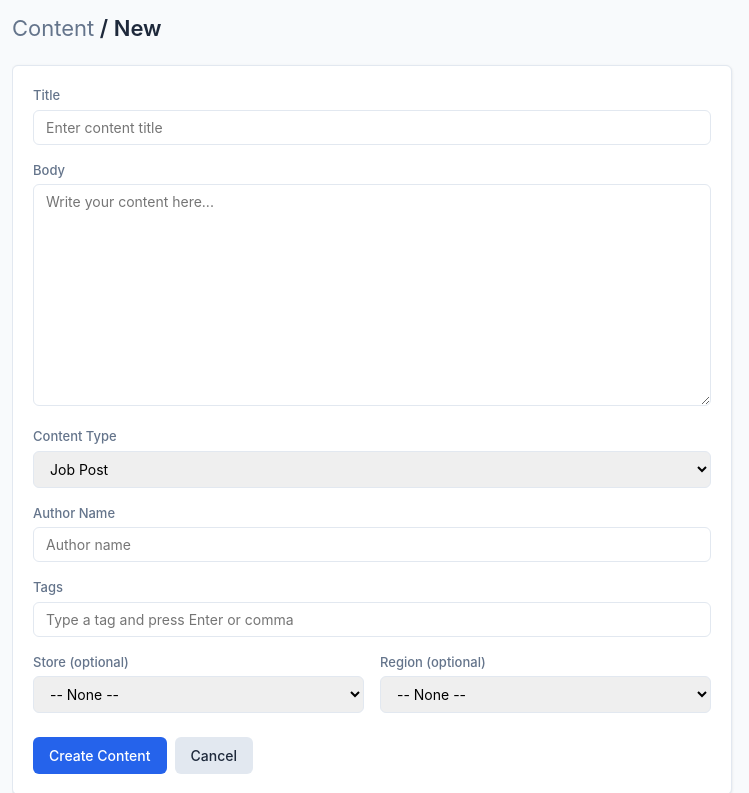
Test: ContentCreatePage — behavior tests › shows validation error when author name is empty on submit
Step 1. Type "My Title" into the field with placeholder "Enter content title" → coordinates (372, 127), box [33, 110, 711, 144]
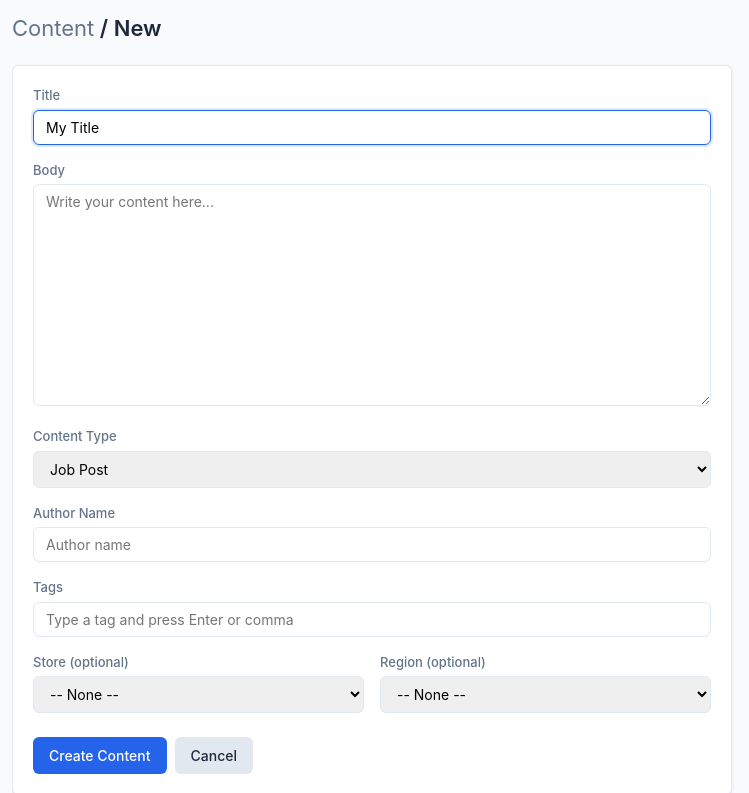
Step 2. Type "Some body text" into the text box with placeholder "Write your content here..." → coordinates (372, 295), box [33, 184, 711, 406]
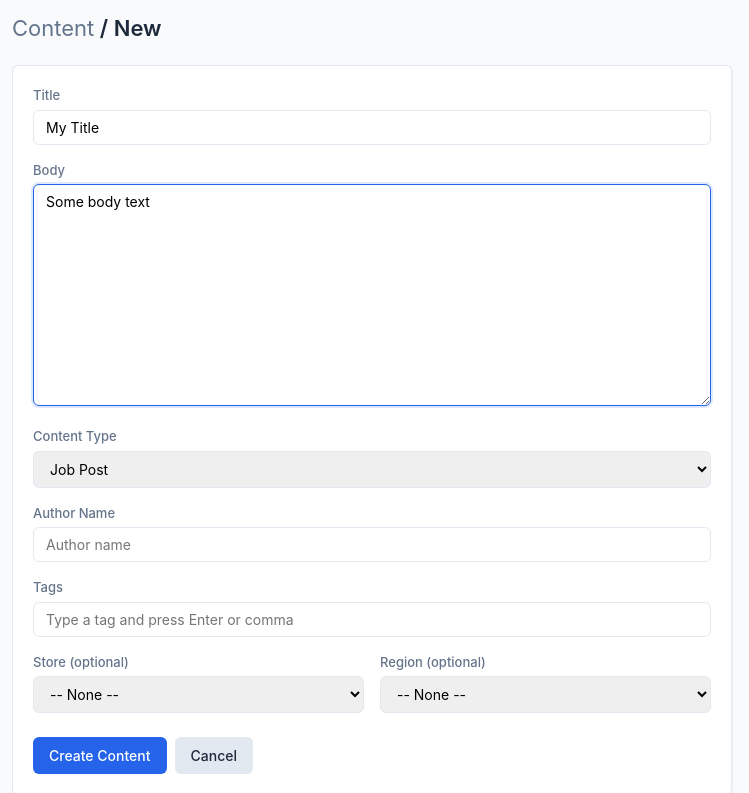
Step 3. Click the button "Create Content" → coordinates (100, 756), box [33, 737, 166, 774]
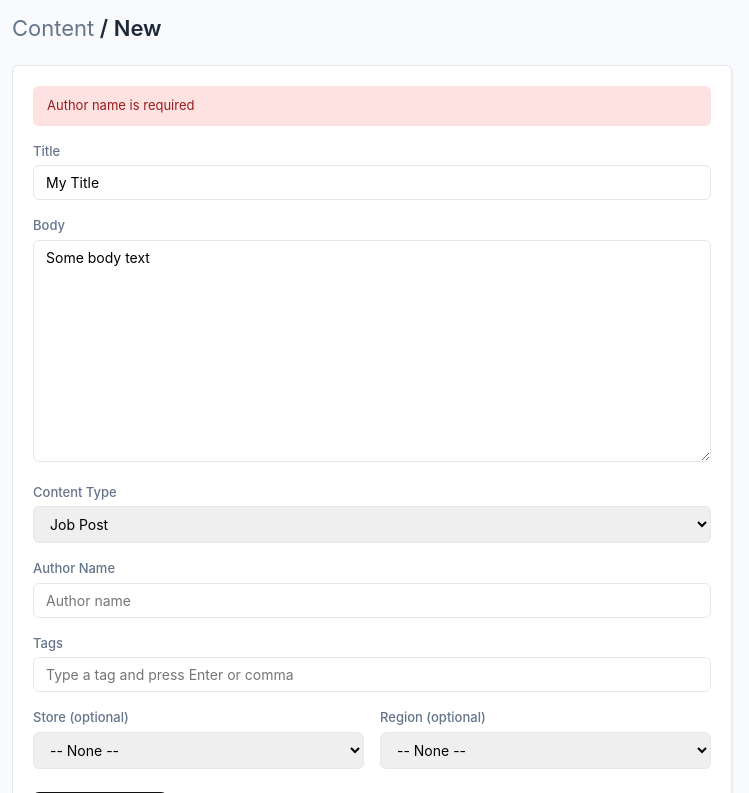
expect the text "Author name is required" is shown: met, box [33, 86, 711, 126]
